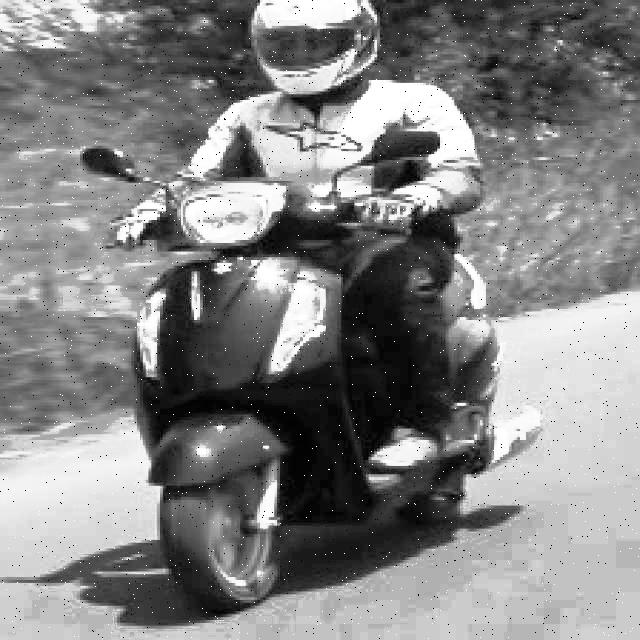Bike: (129, 185, 527, 609)
